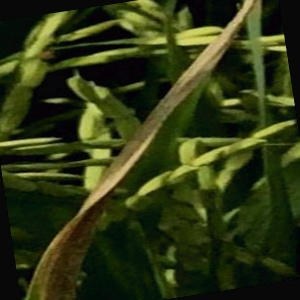Leaf_Blast: (104, 48, 218, 179)
